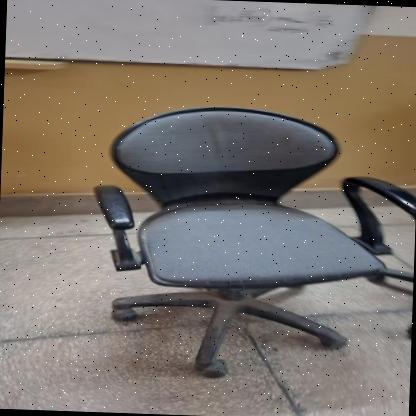chair: (79, 98, 416, 390)
